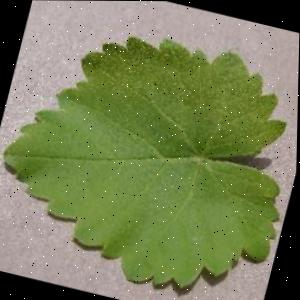Folha: (0, 3, 300, 300)
